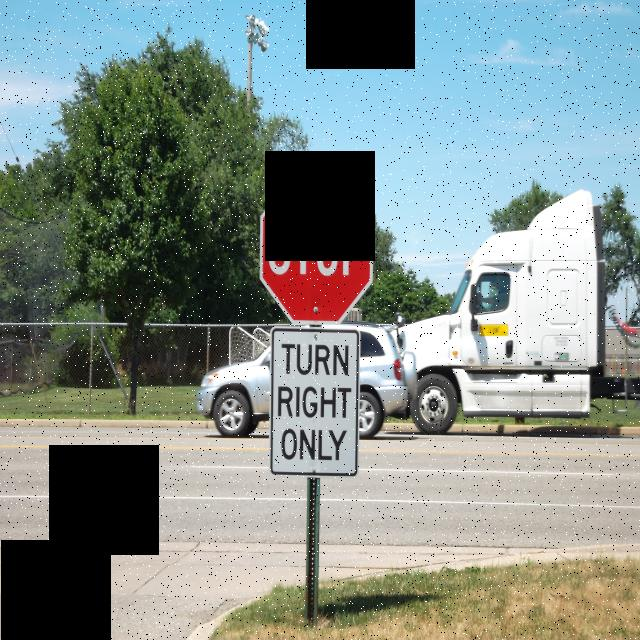regulatory: (266, 324, 363, 481)
stop: (250, 174, 394, 328)
